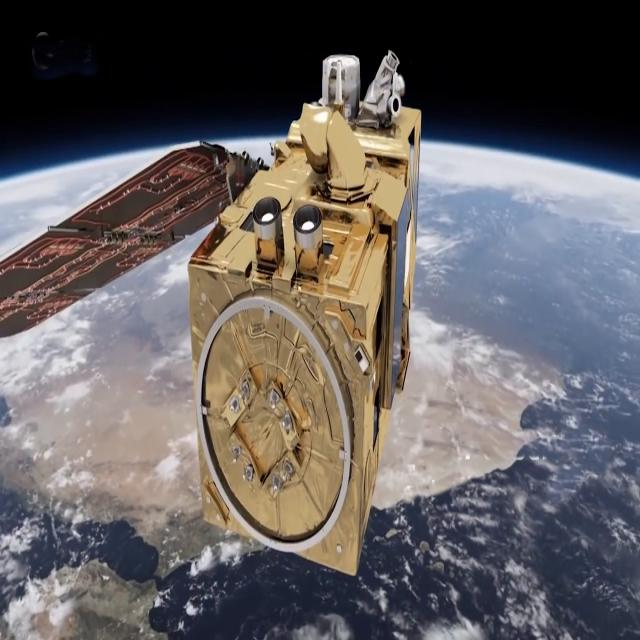satellite: (0, 15, 463, 588)
